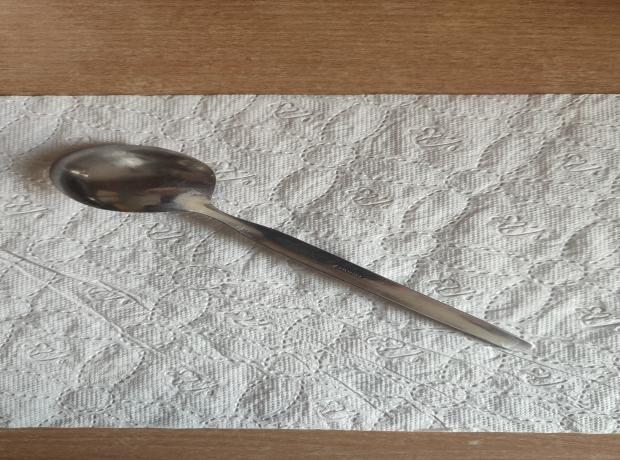metal: (47, 141, 537, 354)
